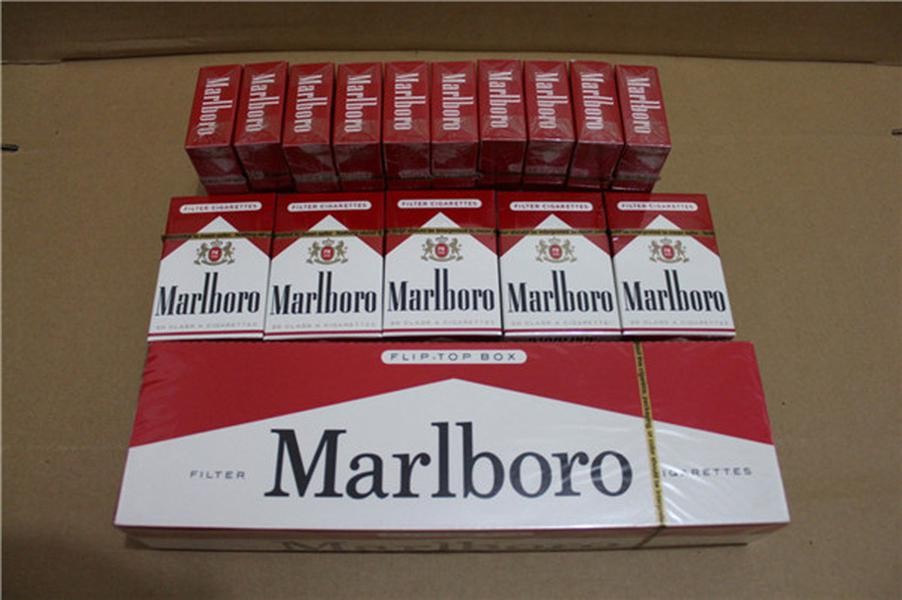marlboro_red: (270, 194, 383, 339), (157, 196, 270, 339), (503, 194, 612, 337), (387, 194, 495, 336), (617, 194, 722, 337)
